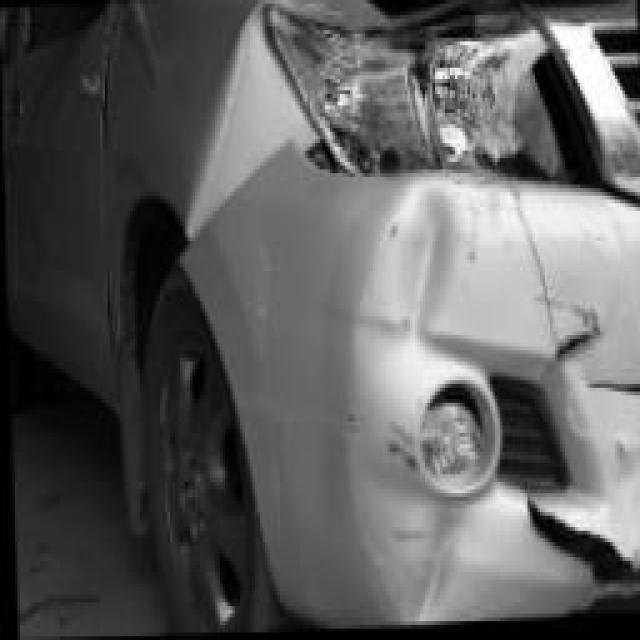Bumper: (282, 173, 639, 619)
Fender: (105, 0, 286, 206)
Light: (282, 23, 561, 192)
